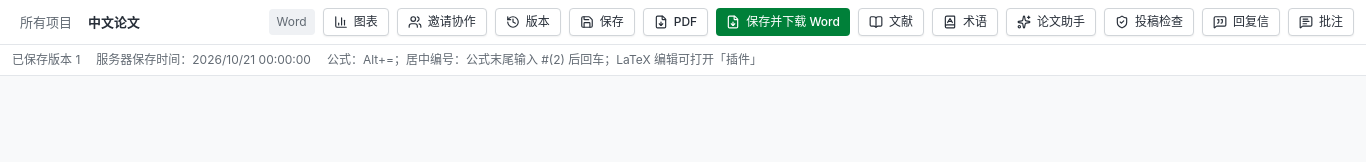
Test: Word 工作台 › 最新状态有保存错误时立即拒绝下载
Click the button with test id "word-download" at {"x": 783, "y": 22}, box [716, 8, 850, 36]
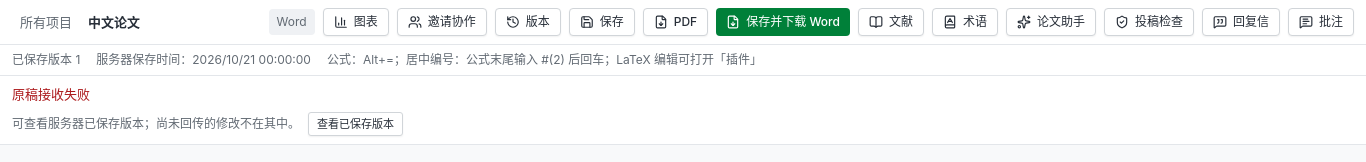
Result: the text "原稿接收失败" is shown at [12, 86, 90, 102]
